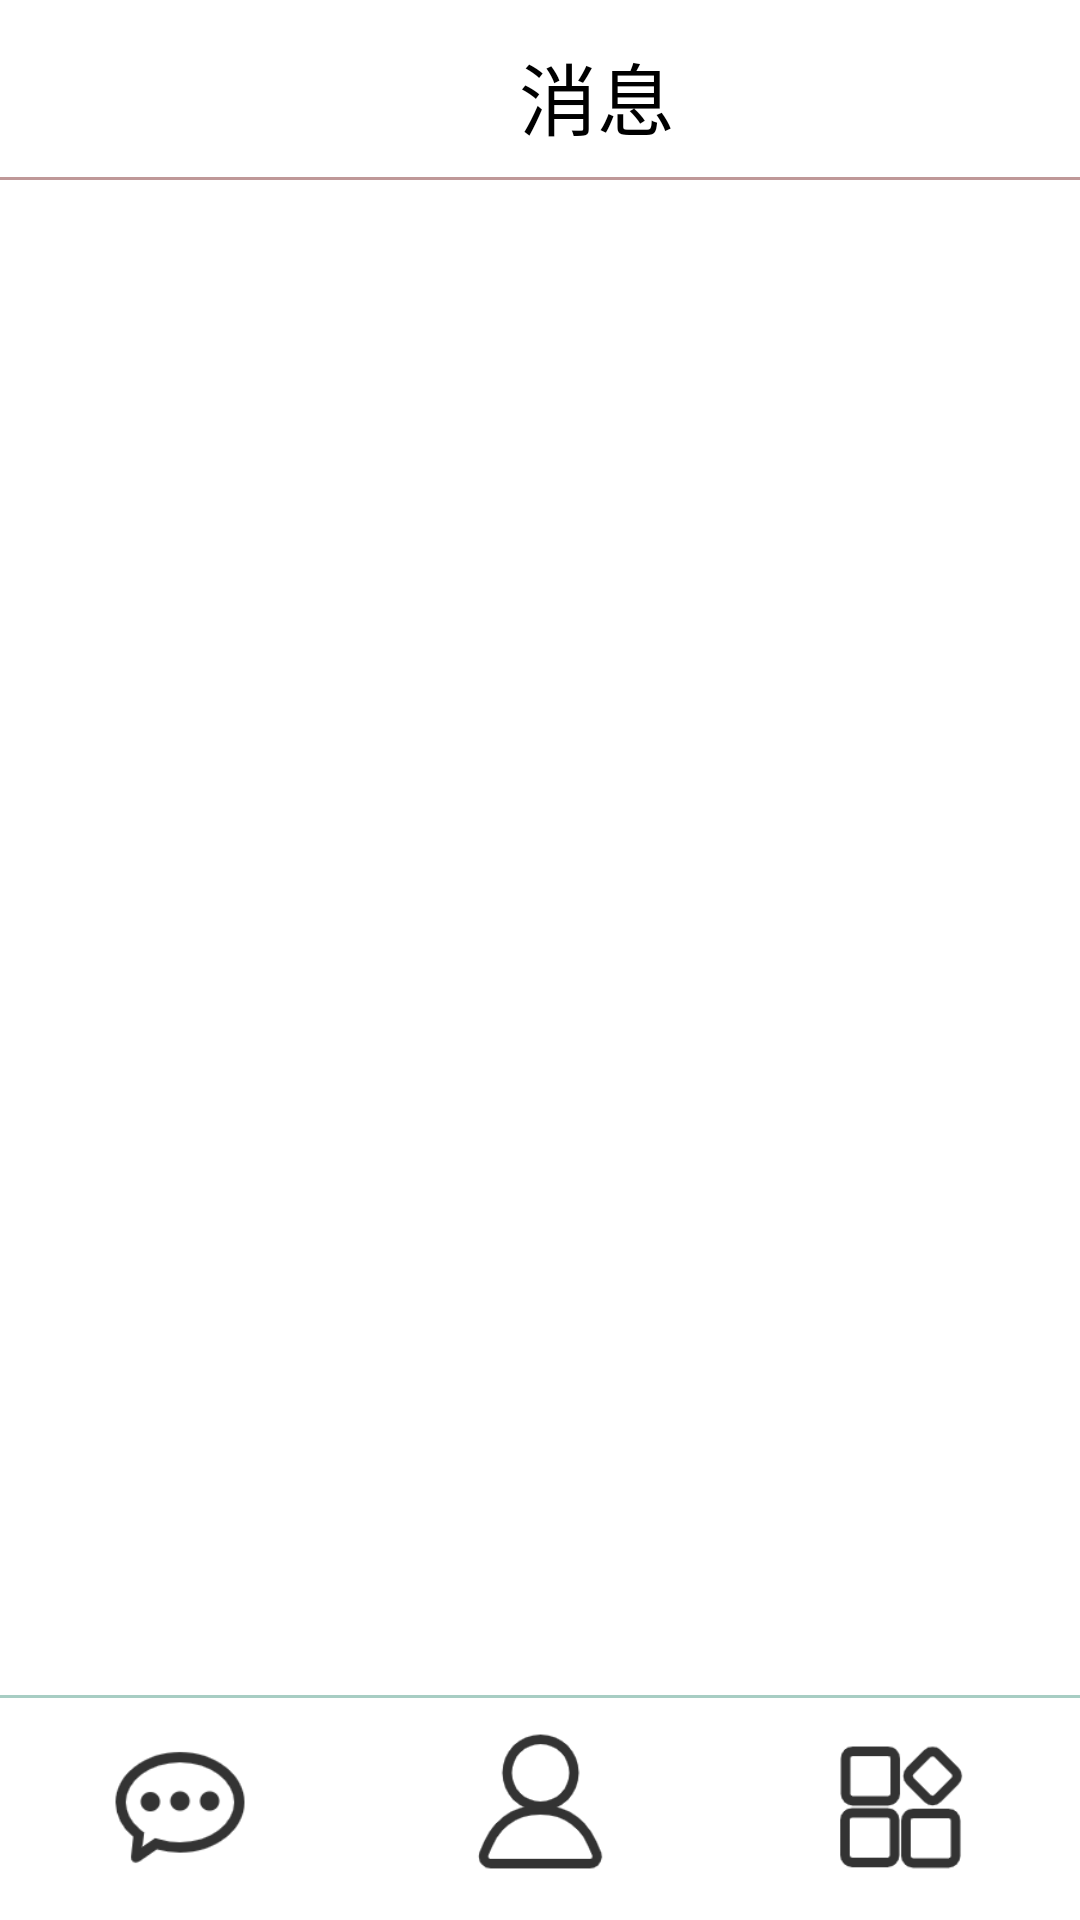

Icons on this 1080 × 1920 Android screen, each with its box as (x1, y1, x2, y2):
apps: (840, 1746, 963, 1869)
person: (478, 1734, 603, 1869)
